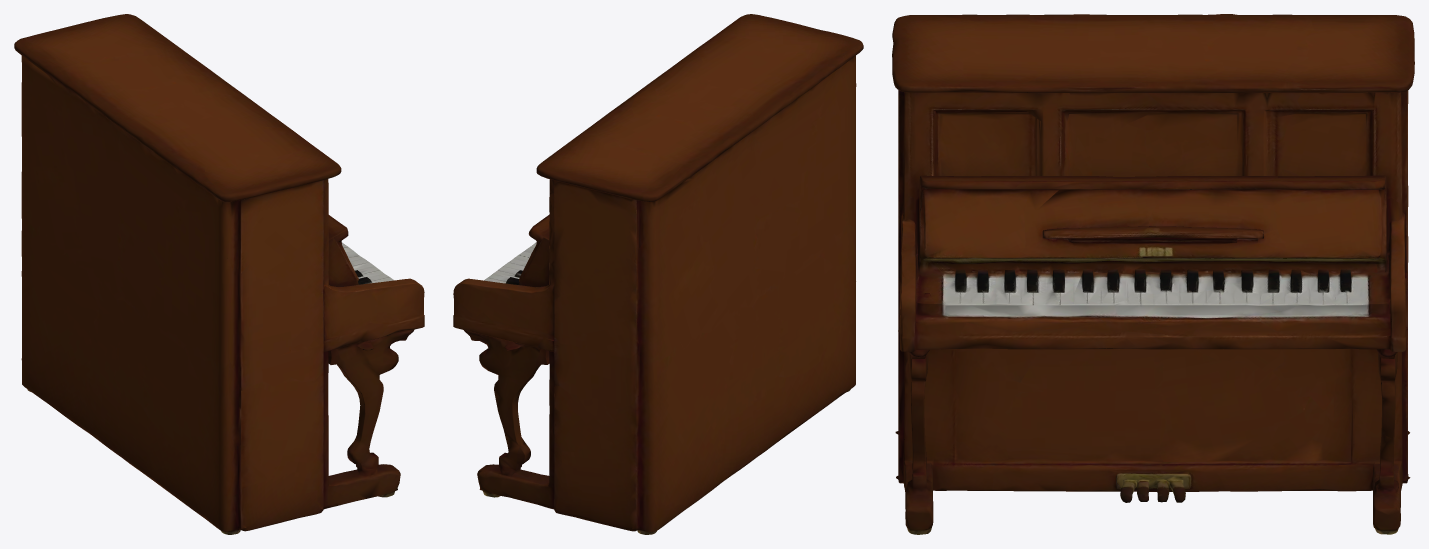
Rendered from piano.glb.
3 renders of one model, left to right at view 1: azimuth 30°, elevation 25°; view 2: azimuth 150°, elevation 25°; view 3: azimuth 270°, elevation 25°, orthographic. The views are drawn at different scales.
Parts seen in each view (by area): view 1: tripo_node_3475d0b5-9639-43ad-92bb-901e27335552; view 2: tripo_node_3475d0b5-9639-43ad-92bb-901e27335552; view 3: tripo_node_3475d0b5-9639-43ad-92bb-901e27335552.
Part boxes in pixels (x1,y1,x2,y2): tripo_node_3475d0b5-9639-43ad-92bb-901e27335552: (14,14,424,534); tripo_node_3475d0b5-9639-43ad-92bb-901e27335552: (453,14,863,534); tripo_node_3475d0b5-9639-43ad-92bb-901e27335552: (892,14,1414,534).
Bounding box in the file's own units: 0.6829 × 1.1 × 1.25.
Materials: 1 (1 with a texture image).
